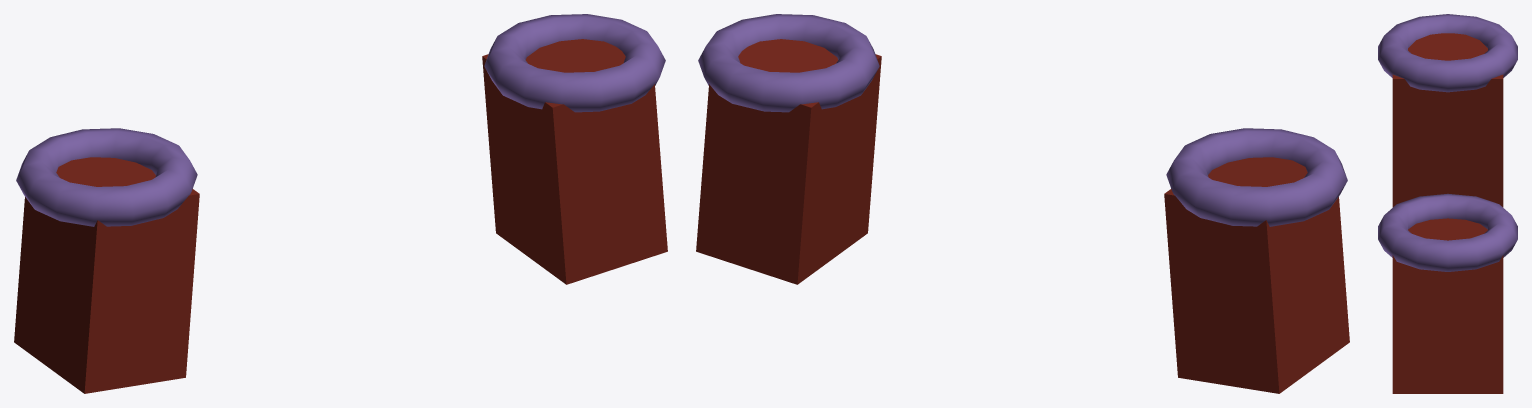
Rendered from hands.glb.
The picture shows the model from 3 angles, left to right: view 1: azimuth 30°, elevation 25°; view 2: azimuth 150°, elevation 25°; view 3: azimuth 270°, elevation 25°; orthographic projection. The views are drawn at different scales.
Parts seen in each view (by area): view 1: gauntlet_-1, gauntlet_1, cuff_-1, cuff_1; view 2: gauntlet_-1, gauntlet_1, cuff_-1, cuff_1; view 3: gauntlet_1, gauntlet_-1, cuff_1, cuff_-1.
Boxes of the visible parts, bbox=[...] form: gauntlet_-1: bbox=[14, 157, 199, 393]; gauntlet_1: bbox=[482, 39, 667, 284]; cuff_-1: bbox=[16, 128, 197, 226]; cuff_1: bbox=[484, 14, 665, 112]; gauntlet_-1: bbox=[1164, 157, 1349, 393]; gauntlet_1: bbox=[696, 39, 881, 284]; cuff_-1: bbox=[1166, 128, 1347, 226]; cuff_1: bbox=[698, 14, 879, 112]; gauntlet_1: bbox=[1392, 218, 1503, 393]; gauntlet_-1: bbox=[1392, 33, 1503, 207]; cuff_1: bbox=[1378, 193, 1517, 271]; cuff_-1: bbox=[1378, 14, 1517, 92].
Bounding box in the file's own units: 1.23 × 0.3816 × 0.3022.
